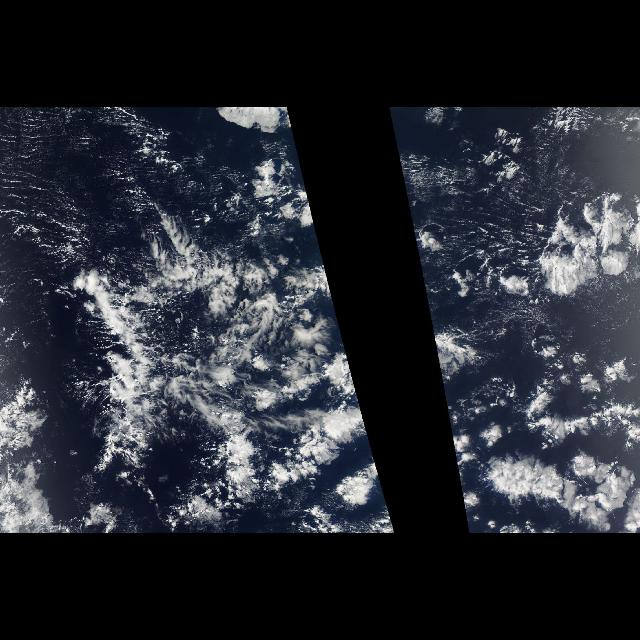Flower: (398, 162, 638, 530), (250, 162, 394, 530)
Sugar: (0, 110, 130, 244)
